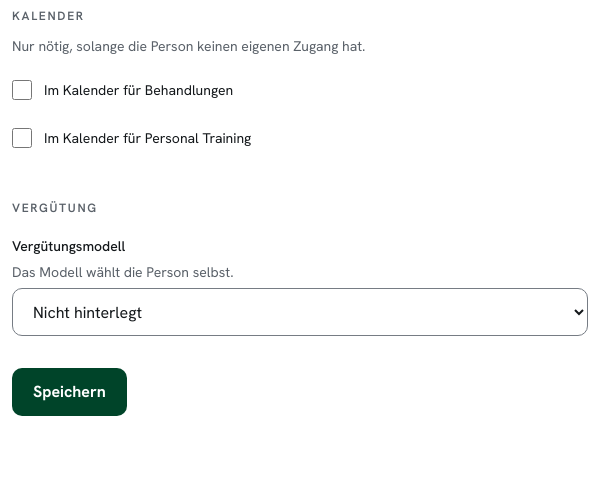
Test: StaffEinsatz (AKTE-009, STA-005) › nimmt eine Person ohne Zugang in den Kalender fuer Behandlungen
Check: the checkbox labelled "Im Kalender für Personal Training" is not checked, box [12,128,32,148]
What coordinates should you click on to do the following:
click the checkbox labelled "Im Kalender für Behandlungen"
I would click on:
 (22, 90)
Its box is [12,80,32,100].
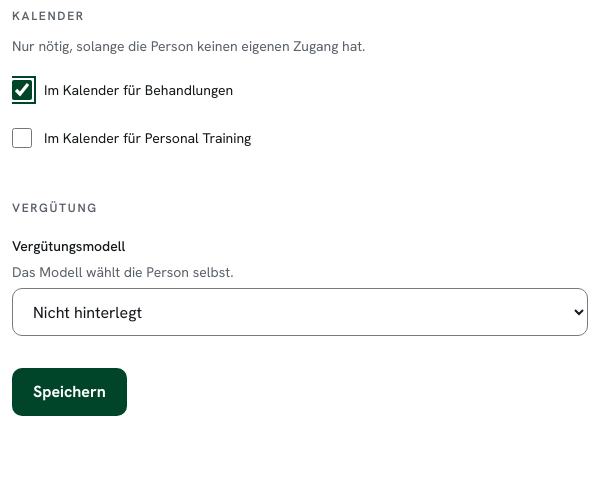
What coordinates should you click on to do the following:
click the button "Speichern"
I would click on:
 (69, 392)
Its box is [12,368,127,416].
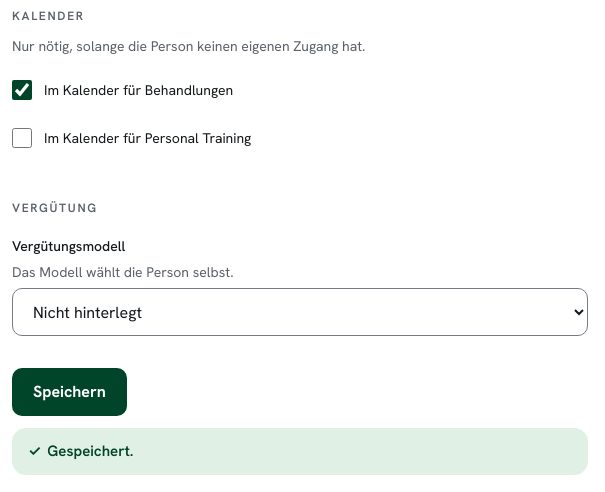
Check: the text "Gespeichert." is shown, box [47,441,134,461]
